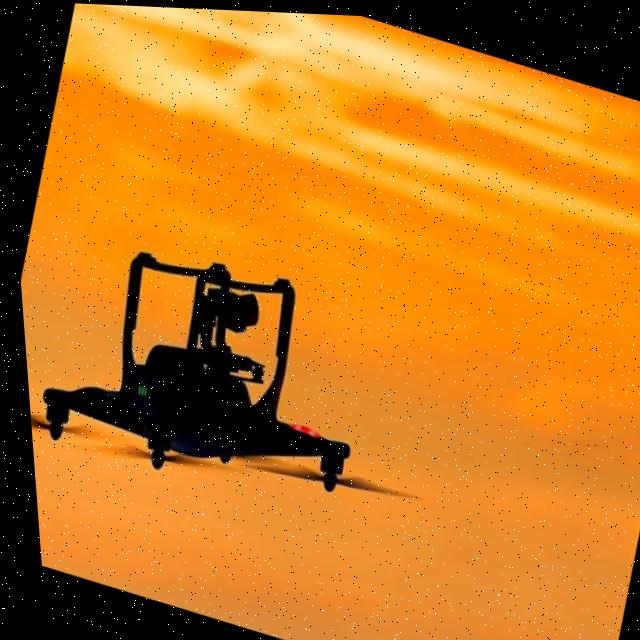drones: (11, 188, 484, 598)
